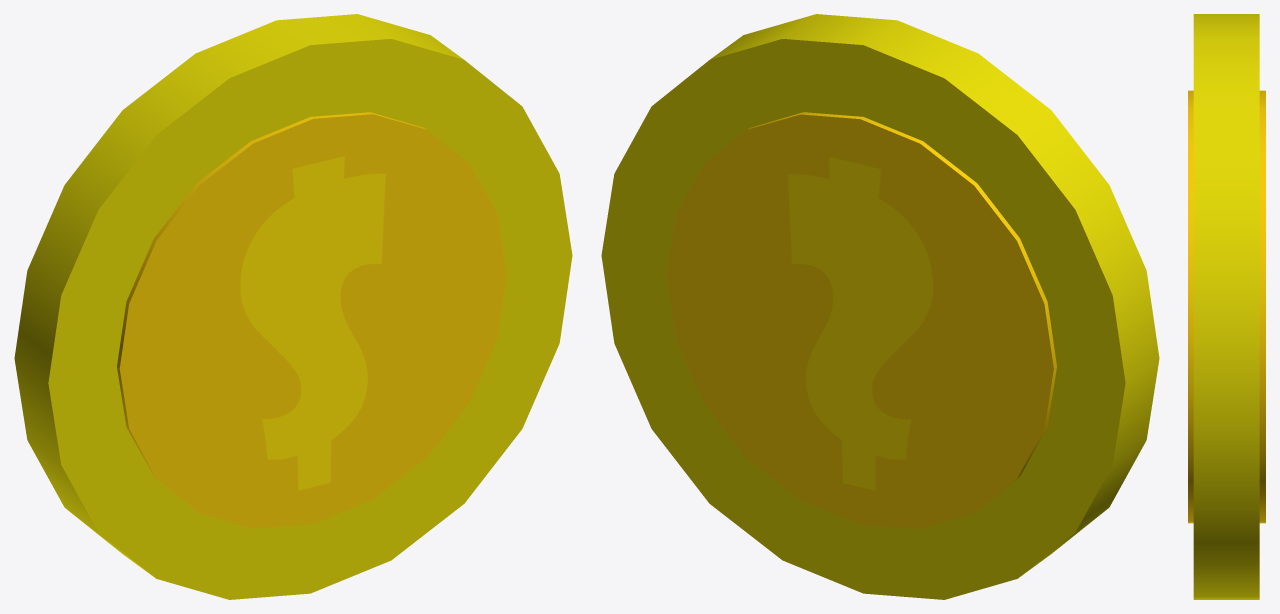
The model's file is coin.fbx.
3 renders of one model, left to right at view 1: azimuth 30°, elevation 25°; view 2: azimuth 150°, elevation 25°; view 3: azimuth 270°, elevation 25°, orthographic. The views are drawn at different scales.
Visible parts, largest first — view 1: coin; view 2: coin; view 3: coin.
Boxes of the visible parts, x1,y1,x2,y2 form: coin: (14,14,572,599); coin: (601,14,1159,599); coin: (1188,14,1265,599).
Size of the model in its own units: 6.63 by 6.63 by 0.8744.
Materials: 2 (1 with a texture image).
